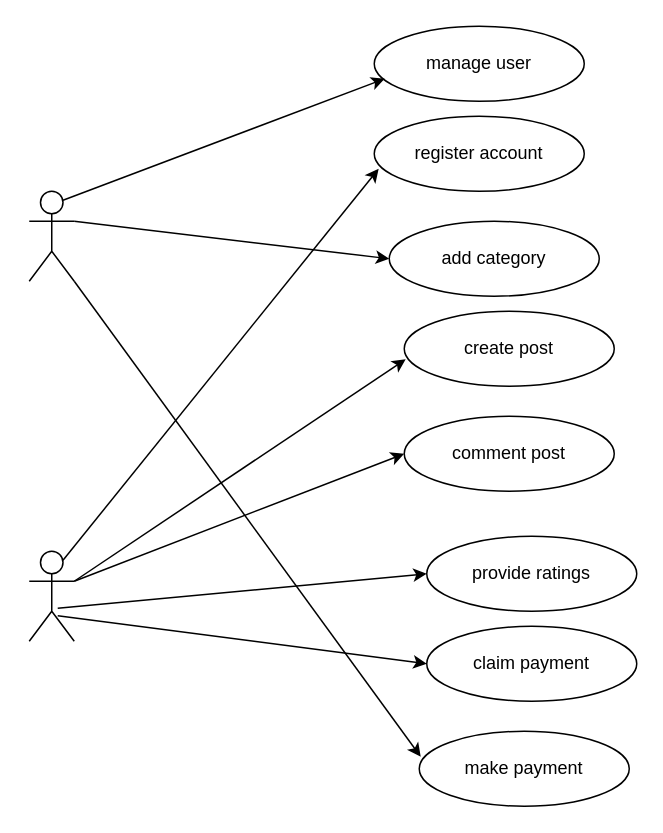
Image size: 663x833. Some labels were removed from this diagram. Here are the shapes that lost their labels. From the top down, the box of each, then its label:
(28, 190, 74, 281): Admin
(28, 550, 74, 641): User
